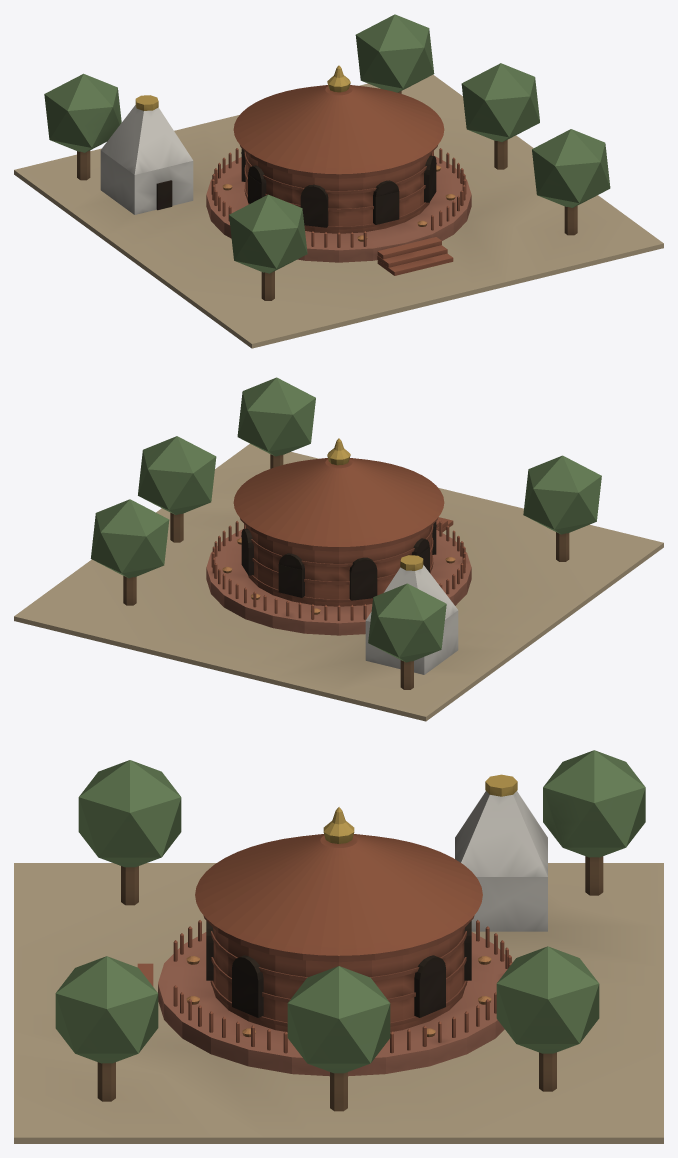
File: agam-kuan.glb
3 views of the same model, one above another, from view 1: azimuth 30°, elevation 25°; view 2: azimuth 150°, elevation 25°; view 3: azimuth 270°, elevation 25° (orthographic). The views are drawn at different scales.
Parts seen in each view (by area): view 1: p0_platform, p3_trees, p2_roof, p1_well-house; view 2: p0_platform, p3_trees, p2_roof, p1_well-house; view 3: p0_platform, p3_trees, p2_roof, p1_well-house.
Boxes of the visible parts, x1,y1,x2,y2 form: p0_platform: [14, 74, 663, 348]; p3_trees: [44, 14, 610, 300]; p2_roof: [100, 65, 444, 214]; p1_well-house: [211, 144, 466, 247]; p0_platform: [14, 444, 663, 721]; p3_trees: [90, 377, 601, 689]; p2_roof: [233, 438, 458, 674]; p1_well-house: [211, 518, 465, 620]; p0_platform: [14, 863, 663, 1143]; p3_trees: [55, 750, 645, 1111]; p2_roof: [195, 774, 547, 955]; p1_well-house: [173, 915, 511, 1053].
Bounding box in the file's own units: 28 × 9.5 × 28.
